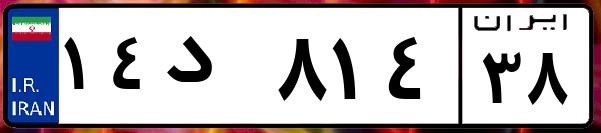1: (330, 28, 385, 110), (57, 26, 110, 100)
3: (475, 38, 525, 113)
4: (385, 28, 445, 110), (110, 28, 158, 98)
8: (270, 28, 330, 110), (525, 38, 570, 115)
د: (158, 20, 270, 120)
